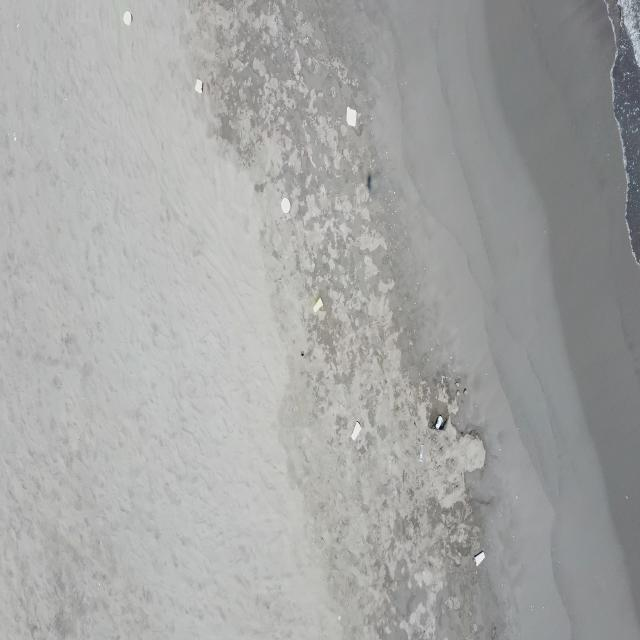take-away-containers: (346, 105, 358, 129), (282, 197, 292, 215), (194, 78, 204, 95), (123, 10, 132, 27)
takeaway-cup: (351, 421, 362, 441), (312, 296, 324, 313), (474, 550, 486, 567), (418, 442, 425, 465), (436, 414, 444, 429)
